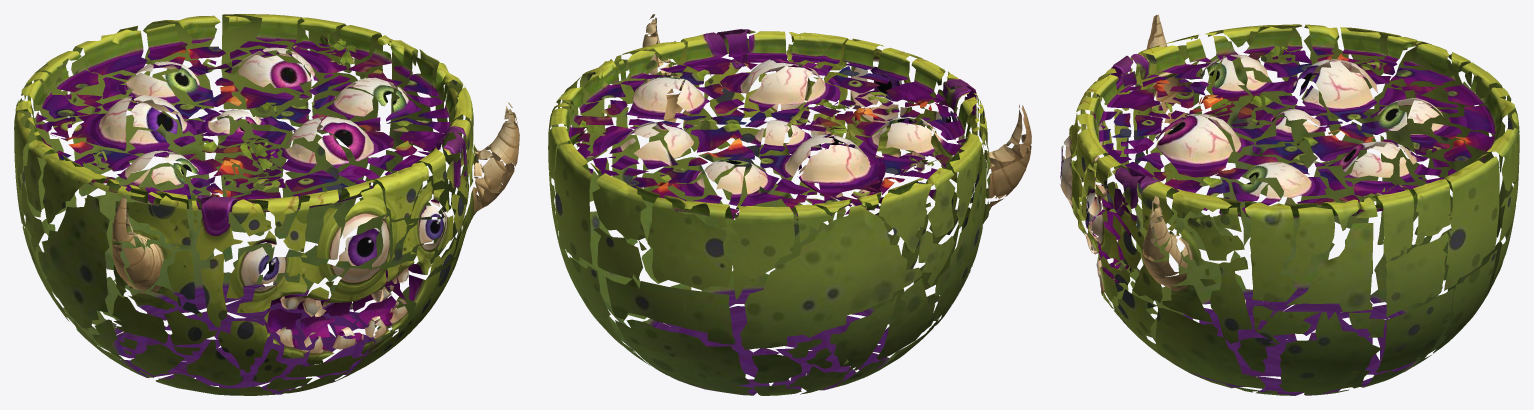
Rendered from soupe.glb.
The picture shows the model from 3 angles, left to right: view 1: azimuth 30°, elevation 25°; view 2: azimuth 150°, elevation 25°; view 3: azimuth 270°, elevation 25°; orthographic projection. The views are drawn at different scales.
Visible parts, largest first — view 1: mesh_node; view 2: mesh_node; view 3: mesh_node.
Boxes of the visible parts, <box> form: mesh_node: <box>14,14,519,395</box>; mesh_node: <box>548,14,1031,395</box>; mesh_node: <box>1060,14,1519,395</box>.
Bounding box in the file's own units: 1.88 × 1.09 × 1.9.
Materials: 1 (1 with a texture image).
